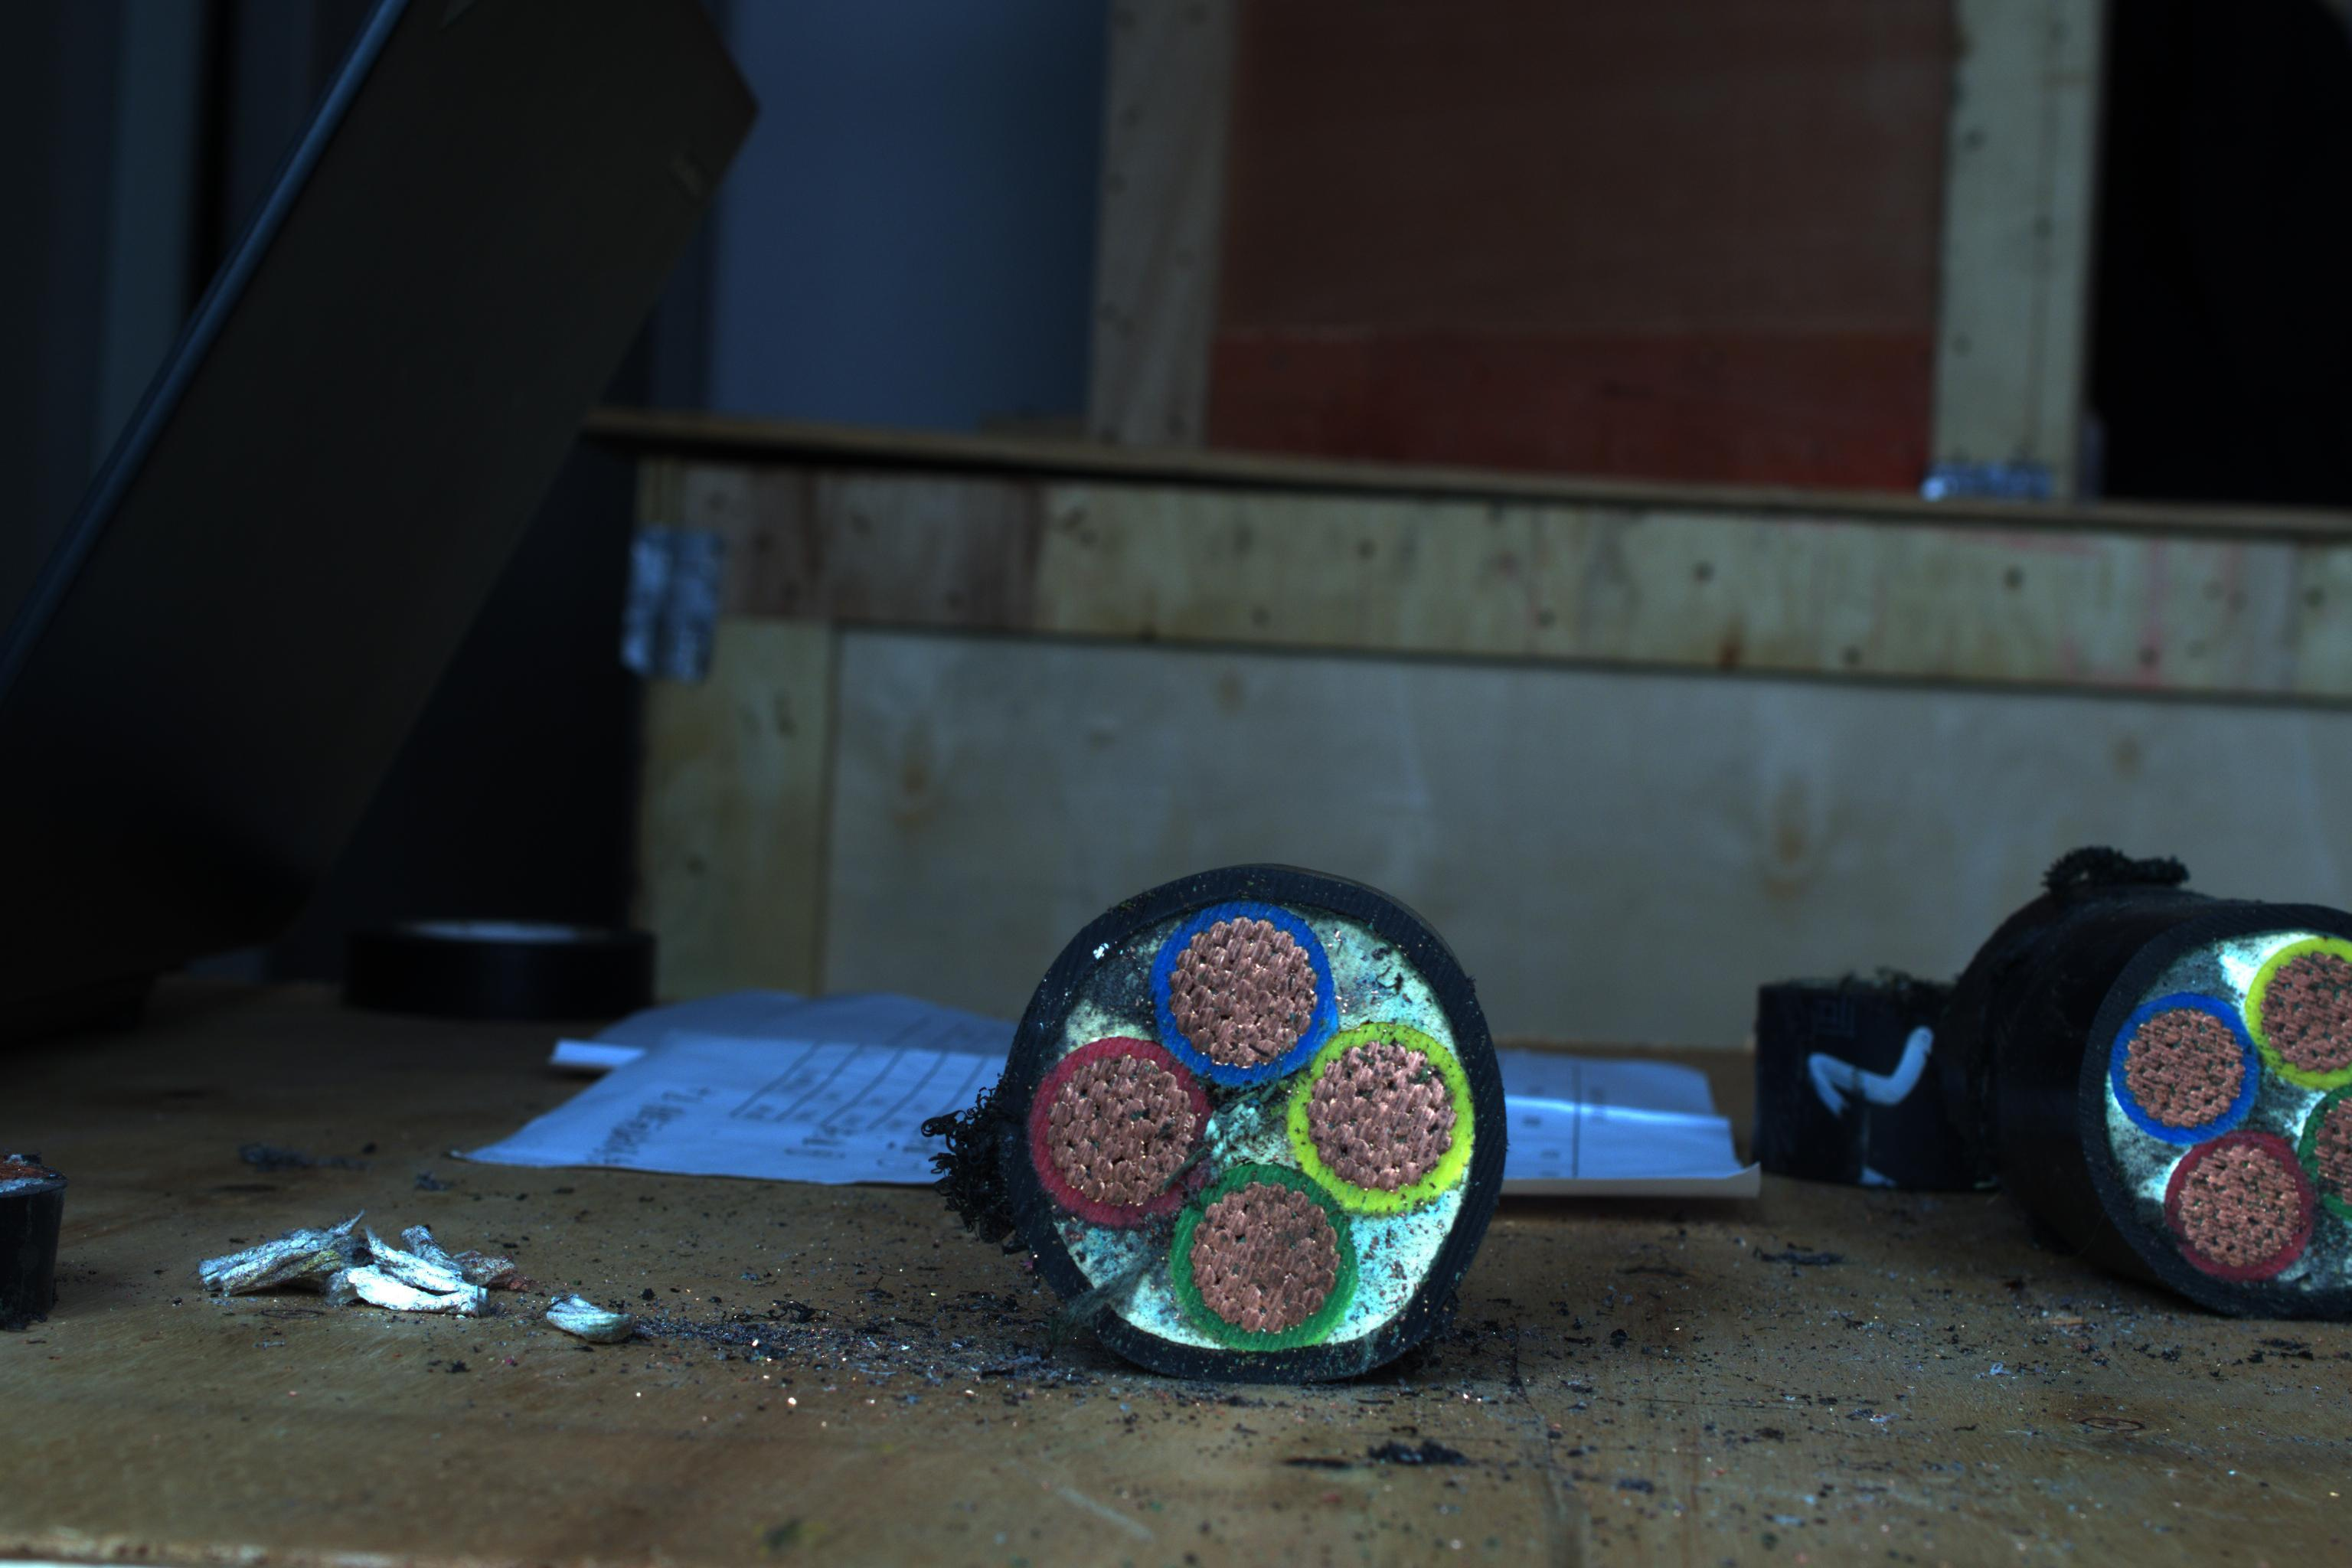YJV_0.6_1kV_4x185: (996, 873, 1505, 1381)
